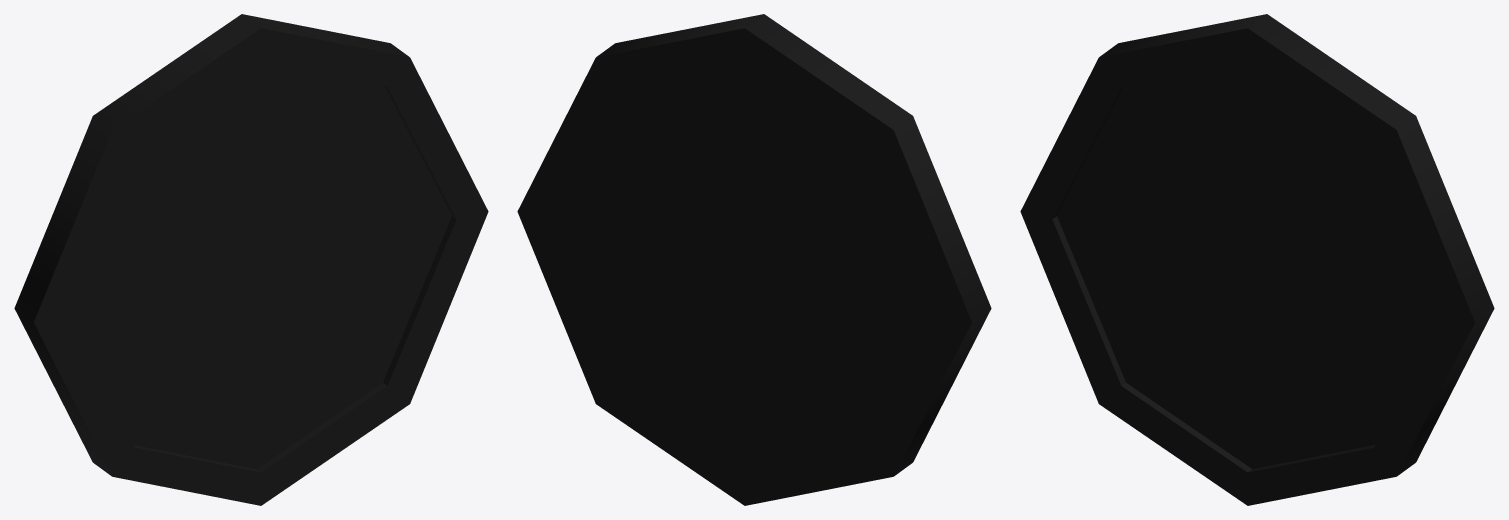
File: Itr_Obj_Frame4_02.FBX
3 views of the same model, side by side, from view 1: azimuth 30°, elevation 25°; view 2: azimuth 150°, elevation 25°; view 3: azimuth 330°, elevation 25° (orthographic).
Visible parts, largest first — view 1: Itr_Obj_Frame4_02; view 2: Itr_Obj_Frame4_02; view 3: Itr_Obj_Frame4_02.
Boxes of the visible parts, x1,y1,x2,y2 form: Itr_Obj_Frame4_02: [14, 14, 488, 505]; Itr_Obj_Frame4_02: [517, 14, 991, 505]; Itr_Obj_Frame4_02: [1020, 14, 1494, 505].
Bounding box in the file's own units: 31.46 × 31.59 × 2.32.
